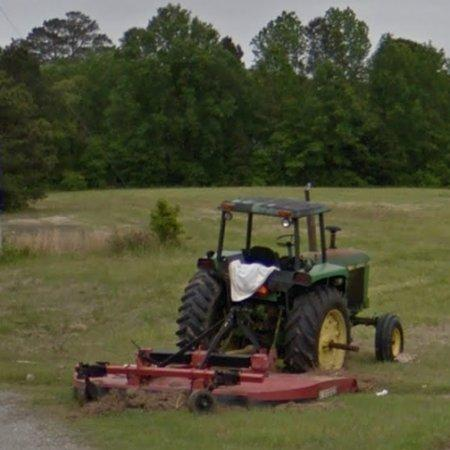tractors: (74, 187, 405, 413)
